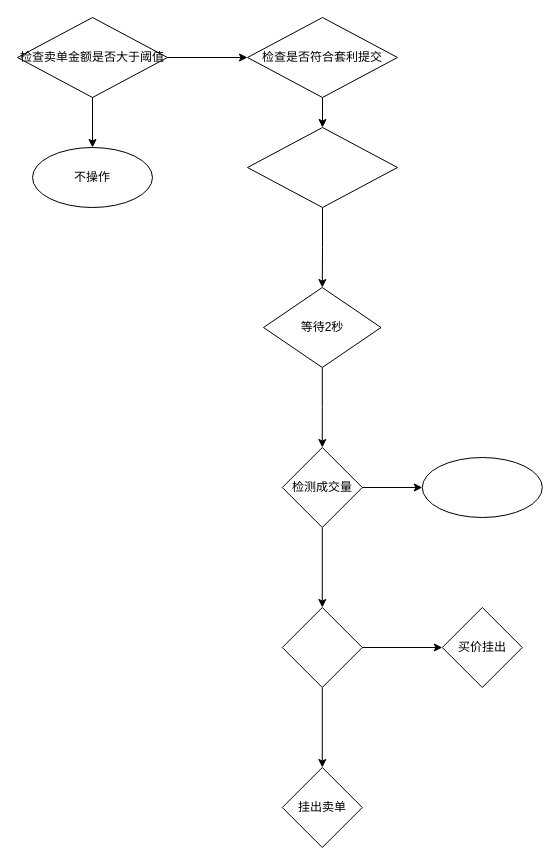
Some shapes in this 560 by 865 pixel diagram are drawn without their labels. The centre of each missing label's shape, as x and y in pixels:
"取消订单" goes at point 481,487.
"当前价格-单位价格>买价？" goes at point 321,647.
"高于买单一个单位挂单" goes at point 322,167.
